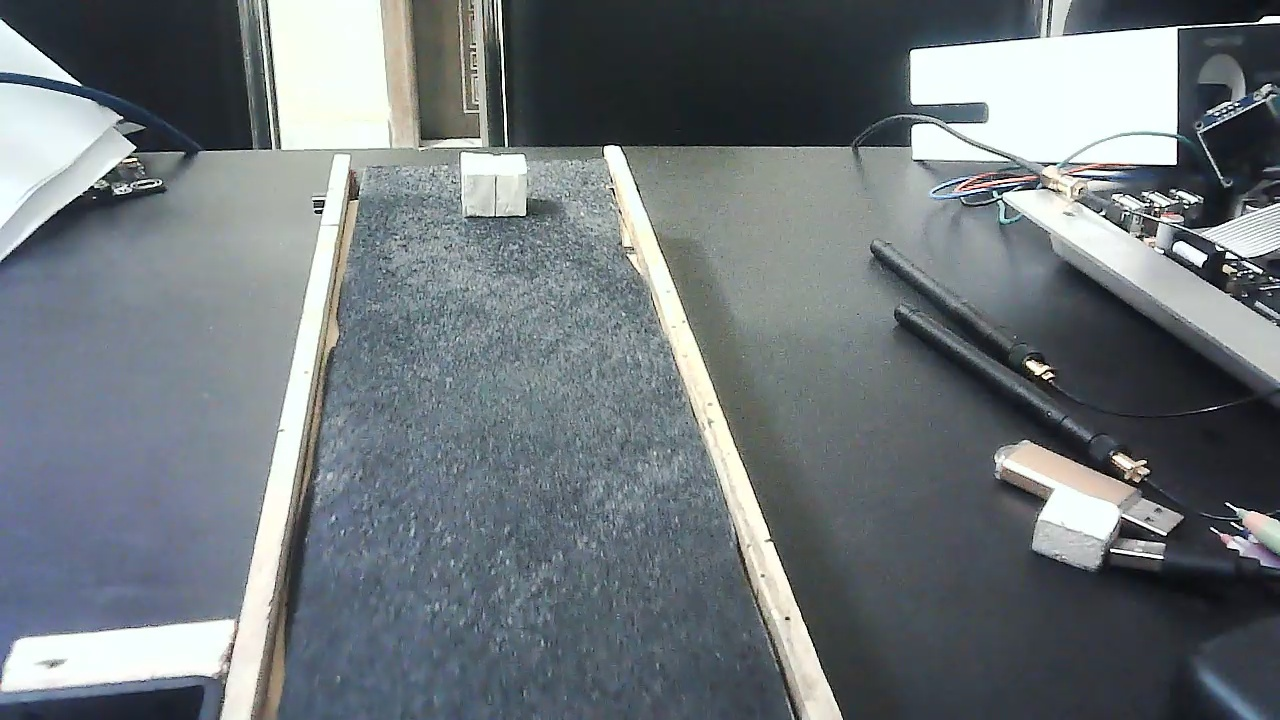Small: (459, 150, 527, 218)
